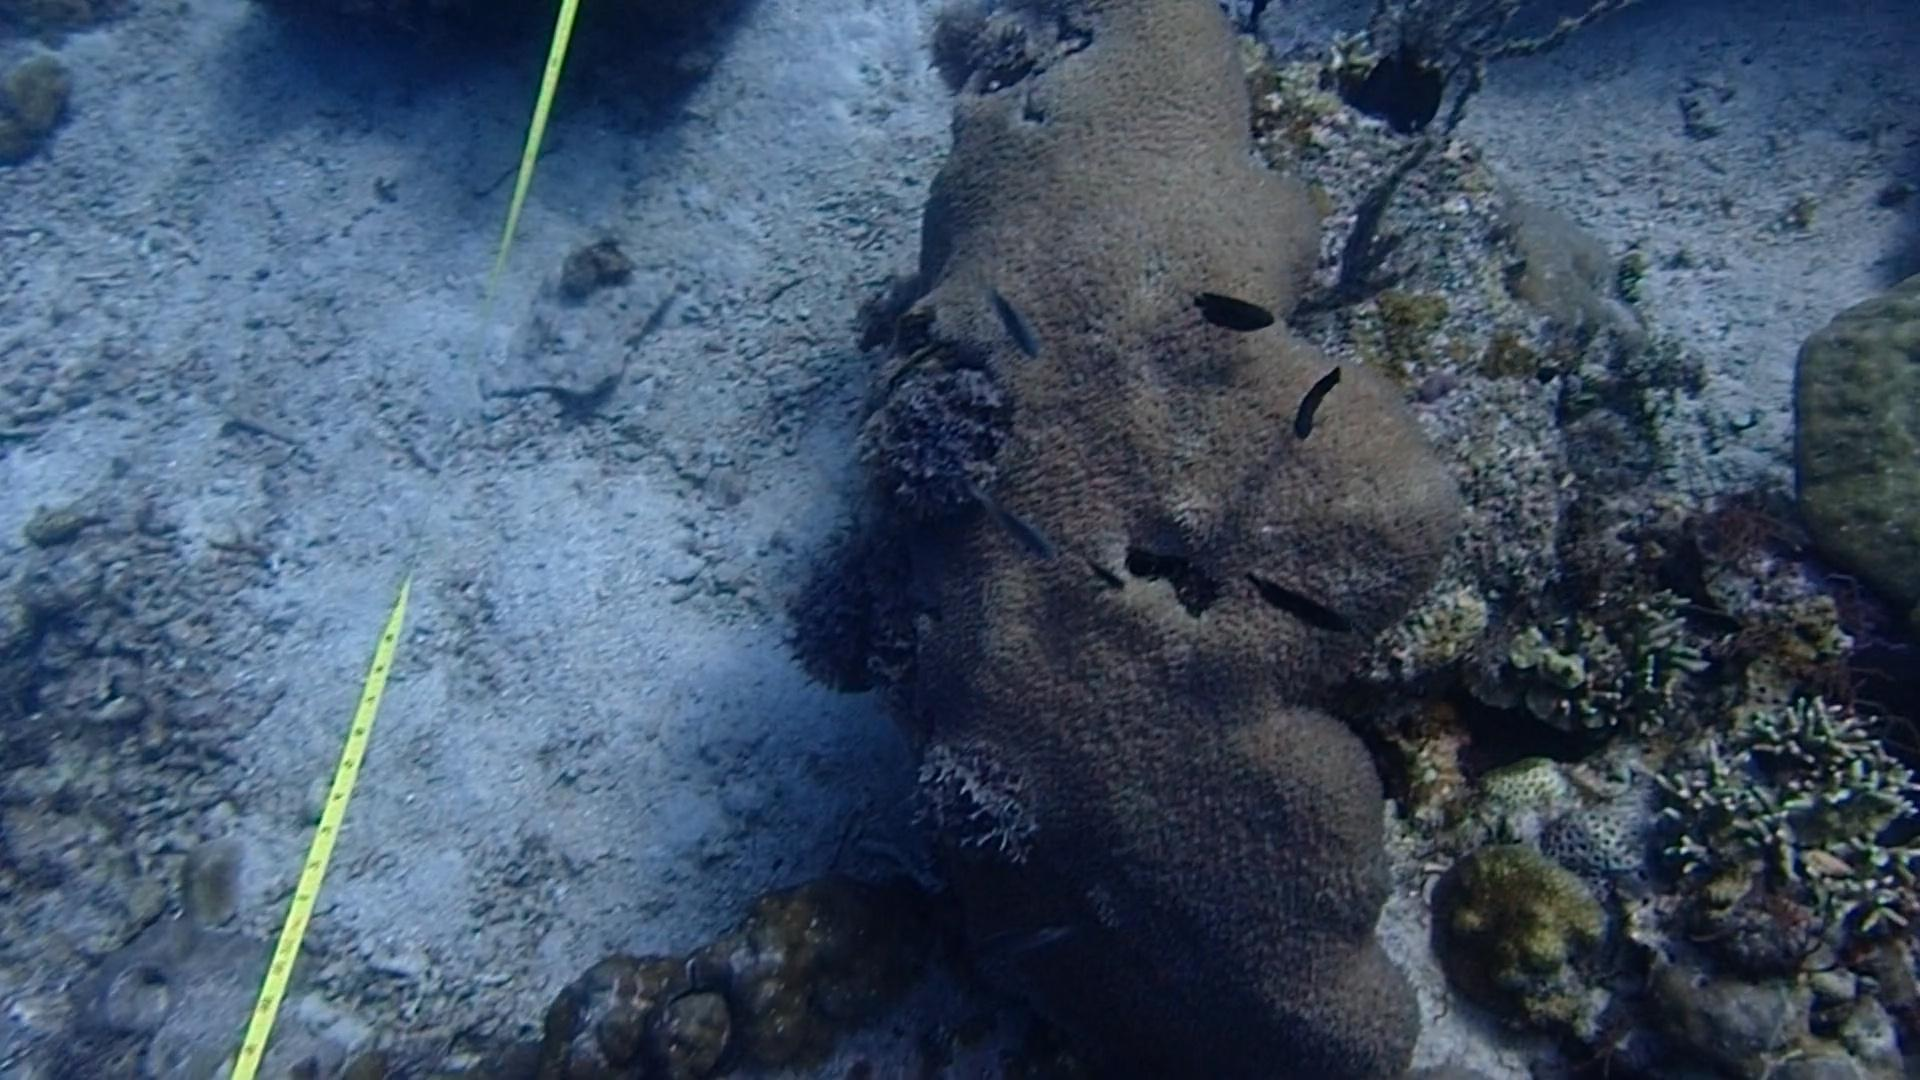Dark Fish: (1244, 567, 1369, 647), (1178, 273, 1294, 347), (1273, 357, 1361, 448), (1075, 547, 1129, 597)
Light Fish: (972, 903, 1089, 988), (973, 480, 1062, 567), (981, 276, 1044, 367)
